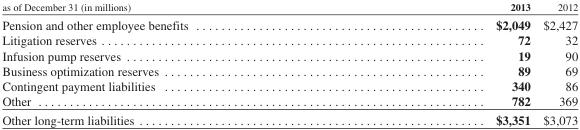table: (1, 0, 577, 126)
table column: (1, 0, 341, 126), (341, 0, 536, 126), (536, 0, 577, 126)
table column header: (1, 0, 577, 15)
table row: (1, 92, 577, 110), (1, 15, 577, 32), (1, 110, 577, 126), (1, 0, 577, 15), (1, 32, 577, 47), (1, 47, 577, 62), (1, 62, 577, 77), (1, 77, 577, 92)
